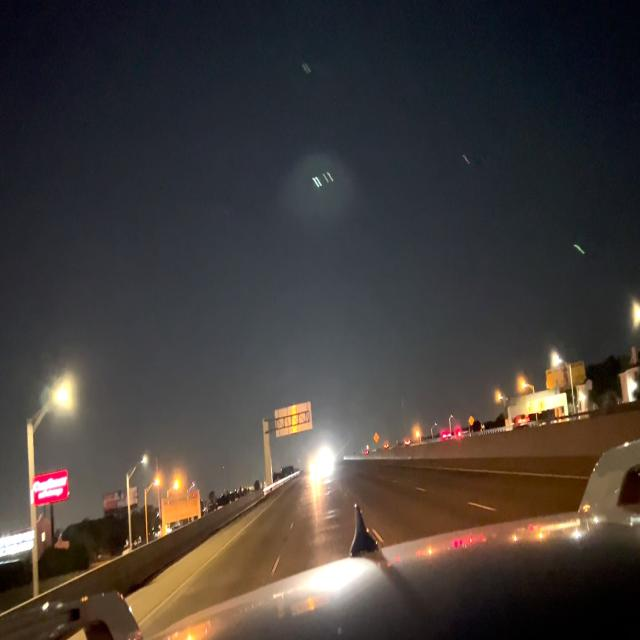back-of-sign: (275, 402, 313, 442)
